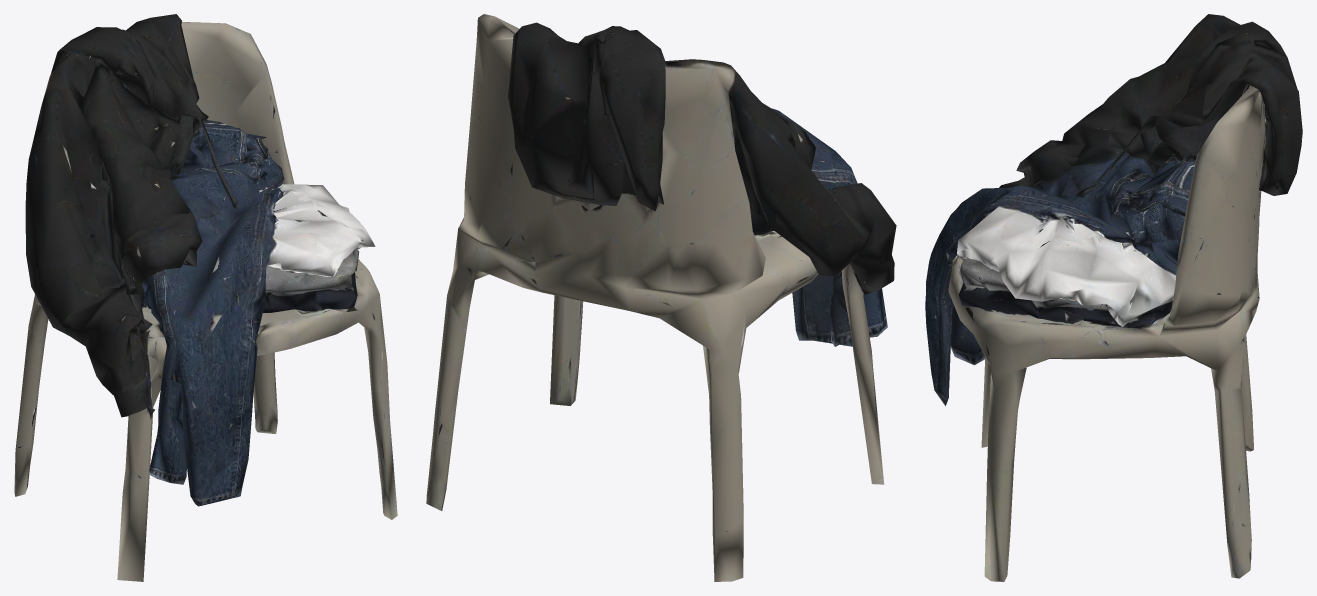
Rendered from mobile.glb.
3 renders of one model, left to right at view 1: azimuth 30°, elevation 25°; view 2: azimuth 150°, elevation 25°; view 3: azimuth 270°, elevation 25°, orthographic. The views are drawn at different scales.
Visible parts, largest first — view 1: d-chairlaundry; view 2: d-chairlaundry; view 3: d-chairlaundry.
Part boxes in pixels (left/top/right/bottom): d-chairlaundry: left=14, top=14, right=397, bottom=581; d-chairlaundry: left=426, top=14, right=896, bottom=581; d-chairlaundry: left=925, top=14, right=1302, bottom=581.
Size of the model in its own units: 0.5469 by 0.7512 by 0.5546.
Materials: 1 (1 with a texture image).
